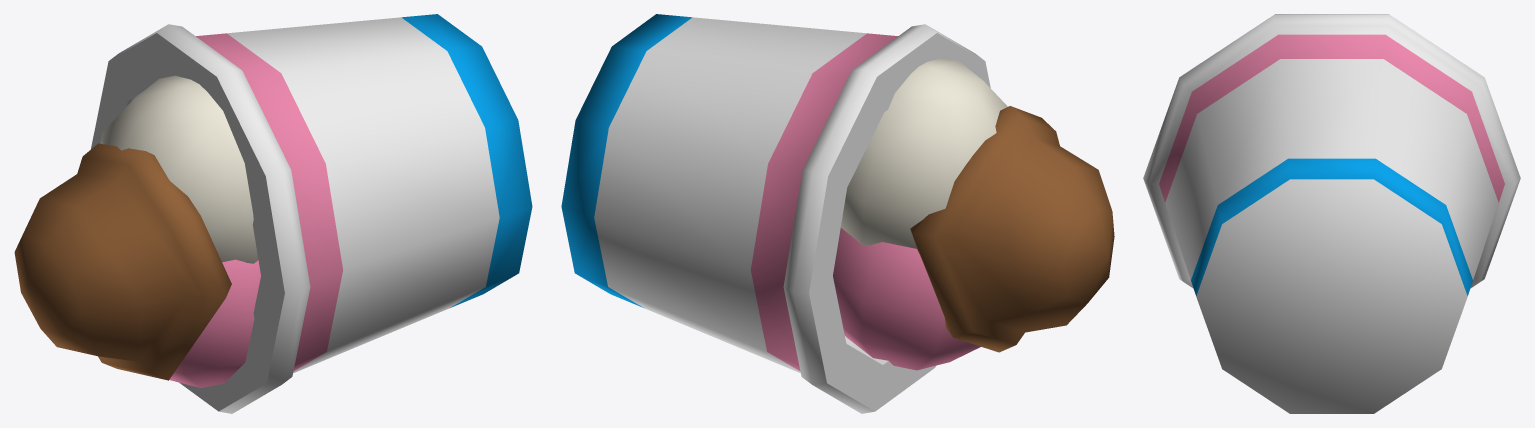
Rendered from StartingPoint_Icecreamtub_v01.fbx.
3 renders of one model, left to right at view 1: azimuth 30°, elevation 25°; view 2: azimuth 150°, elevation 25°; view 3: azimuth 270°, elevation 25°, orthographic. The views are drawn at different scales.
Visible parts, largest first — view 1: Icecreamtub_Tub_01, Icecreamtub_BrownIcecream, Icecreamtub_PinkIcecream1, Icecreamtub_PinkIcecream; view 2: Icecreamtub_Tub_01, Icecreamtub_BrownIcecream, Icecreamtub_PinkIcecream1, Icecreamtub_PinkIcecream; view 3: Icecreamtub_Tub_01.
Boxes of the visible parts, box(x1,y1,x2,y2) form: Icecreamtub_Tub_01: box(91, 14, 532, 413); Icecreamtub_BrownIcecream: box(14, 143, 231, 380); Icecreamtub_PinkIcecream1: box(100, 75, 258, 263); Icecreamtub_PinkIcecream: box(169, 259, 260, 387); Icecreamtub_Tub_01: box(561, 14, 990, 413); Icecreamtub_BrownIcecream: box(910, 106, 1114, 352); Icecreamtub_PinkIcecream1: box(841, 58, 1007, 248); Icecreamtub_PinkIcecream: box(833, 227, 980, 370); Icecreamtub_Tub_01: box(1143, 14, 1520, 413).
Size of the model in its own units: 2559 by 1855 by 1950.
